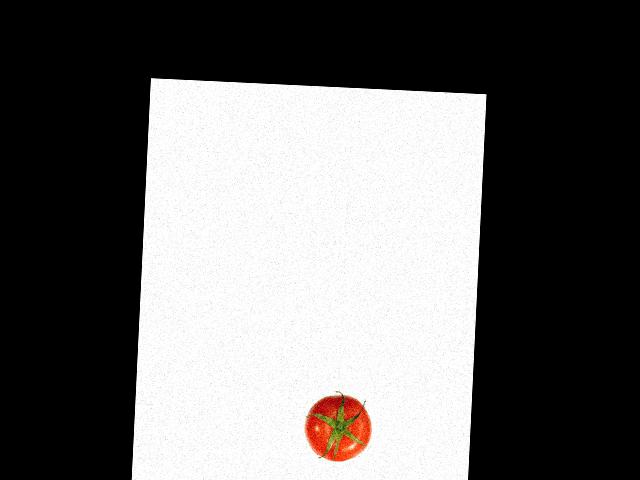tomato: (302, 393, 372, 463)
